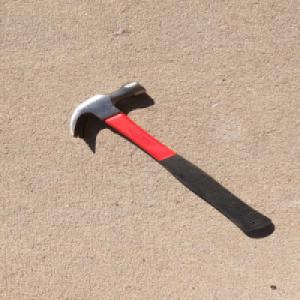Hammer: (67, 80, 275, 234)
